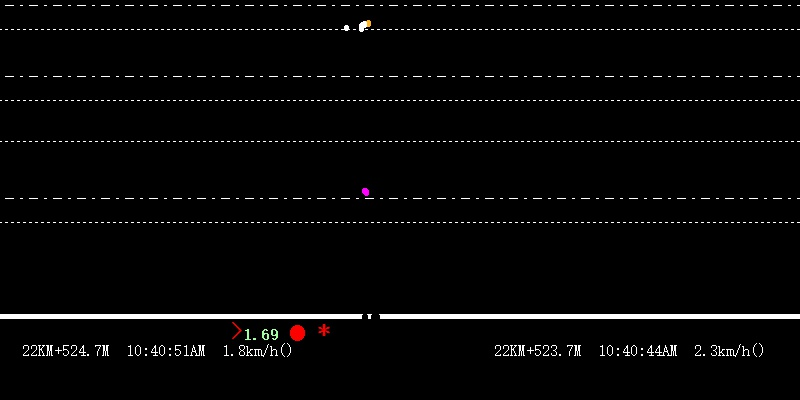circle: (288, 323, 308, 342)
face_1: (343, 21, 350, 35)
face_s: (358, 17, 371, 35)
star: (316, 320, 330, 337)
